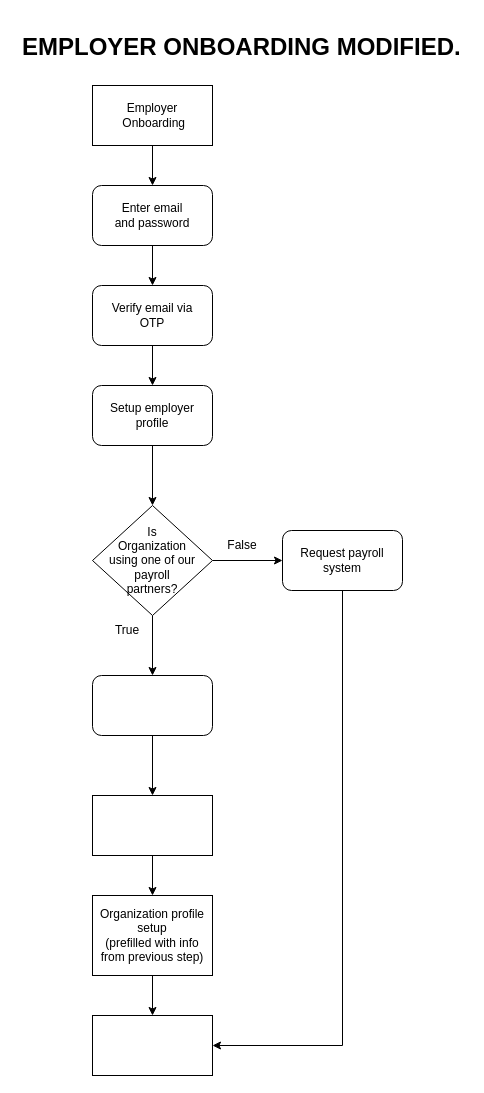
Image size: 484x1093. Some labels were removed from this diagram. The shapes that lost their labels are listed below. From the top down, each one's centre as x and y in pixels, then its label:
the point at 152,705: Connect to payroll system using Oauth
the point at 152,825: Organization information are pulled from payroll system
the point at 152,1045: Dashboard
